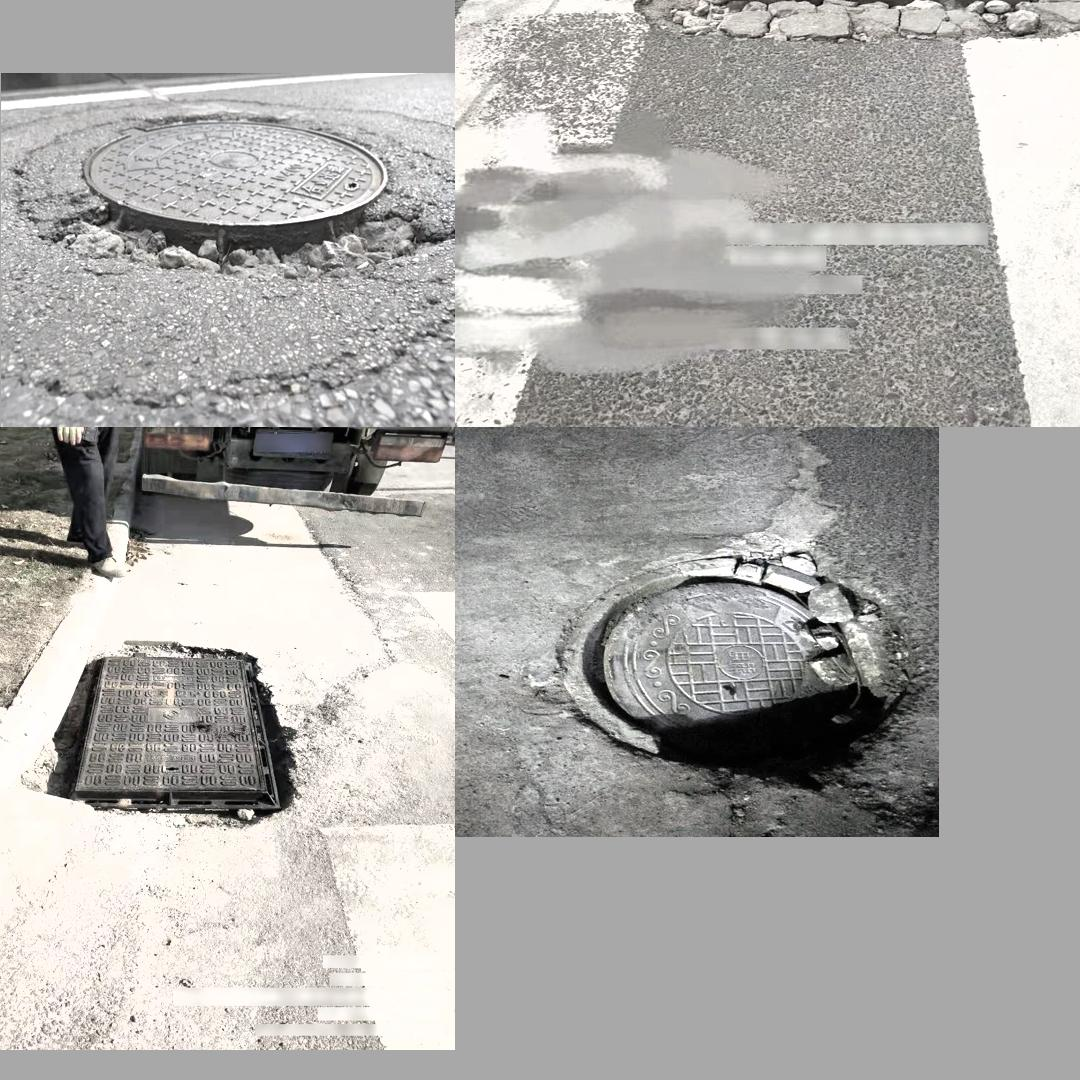circle: (753, 116, 1080, 427), (14, 100, 448, 315), (545, 555, 924, 775), (42, 648, 296, 822)
